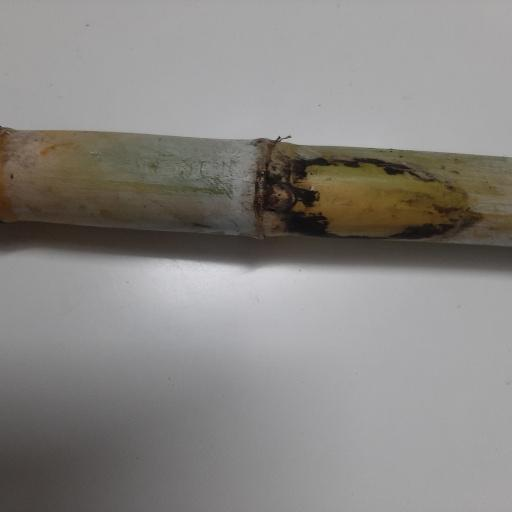Bud: (263, 183, 295, 209)
